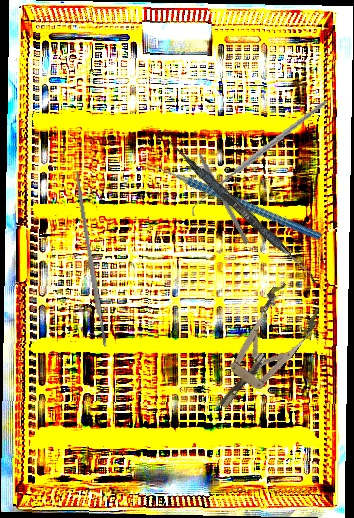Chopper: (135, 113, 323, 293), (190, 136, 255, 245)
Hook Surgical: (179, 100, 341, 216)
Scalpel Handle: (73, 170, 108, 349)
Spatula Surgical: (162, 137, 323, 285)
Speculum: (198, 278, 326, 423)
